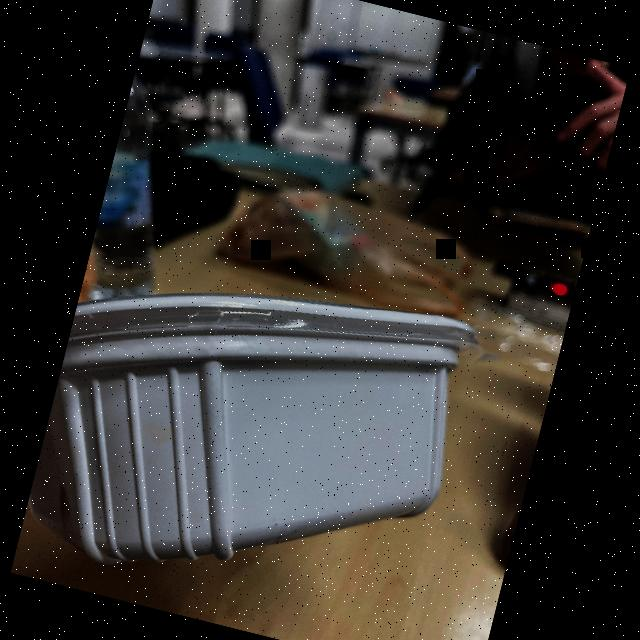plastic_box: (19, 220, 493, 634)
